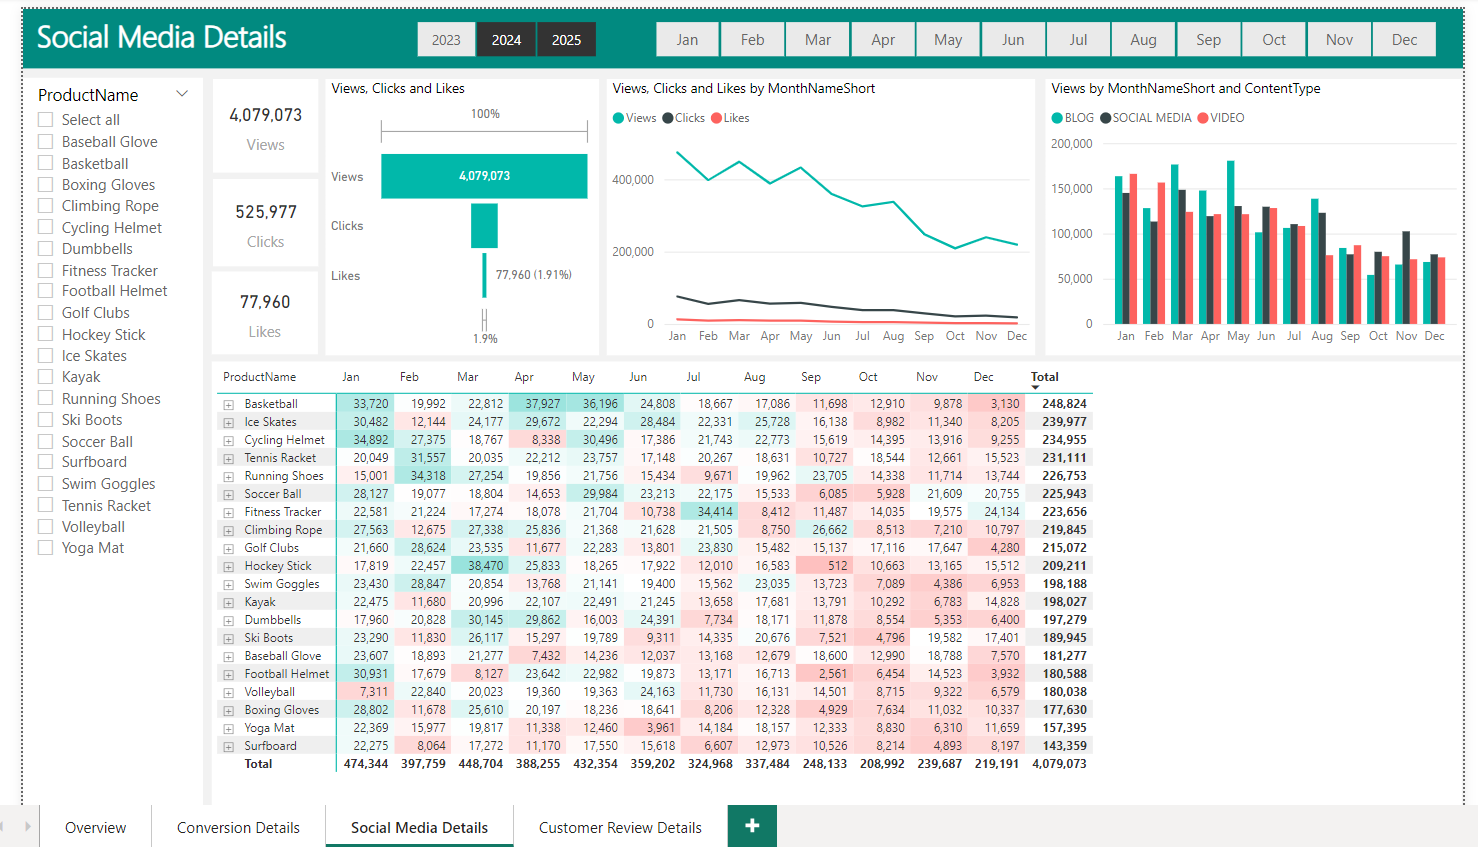

This screenshot's page, from the dashboard's own definition file:
{"tool":"powerbi","page":{"name":"Social Media Details","canvas":[1280,720],"ordinal":2},"visuals":[{"type":"textbox","box":[0,0,1280,52.6],"z":0},{"type":"slicer","fields":{"Values":["dim_products.ProductName"]},"box":[0,61.6,159.5,658.5],"z":1000},{"type":"lineChart","fields":{"Y":["_Calculations.Views","_Calculations.Clicks","_Calculations.Likes"],"Category":["Calendar.MonthNameShort"]},"box":[528.5,61.9,371.6,218.8],"z":2000},{"type":"funnel","fields":{"Y":["_Calculations.Views","_Calculations.Clicks","_Calculations.Likes"]},"box":[272.5,61.9,239.5,218.8],"z":3000},{"type":"card","fields":{"Values":["_Calculations.Views"]},"box":[168.3,61.9,93.9,65],"z":4000},{"type":"card","fields":{"Values":["_Calculations.Clicks"]},"box":[168.3,137.3,93.9,65],"z":5000},{"type":"card","fields":{"Values":["_Calculations.Likes"]},"box":[168.3,212.6,93.9,68.1],"z":6000},{"type":"slicer","fields":{"Values":["Calendar.MonthNameShort"]},"box":[536.8,4.1,743.2,44.4],"z":7000},{"type":"slicer","fields":{"Values":["Calendar.Year"]},"box":[324.1,4.1,208.5,44.4],"z":8000},{"type":"pivotTable","fields":{"Rows":["dim_products.ProductName","fact_engagement.ContentType"],"Values":["_Calculations.Views"],"Columns":["Calendar.MonthNameShort"]},"box":[168.3,292.1,1110.7,428.4],"z":9000},{"type":"clusteredColumnChart","fields":{"Category":["Calendar.MonthNameShort"],"Series":["fact_engagement.ContentType"],"Y":["_Calculations.Views"]},"box":[908.4,61.9,370.6,218.8],"z":10000}]}

Visuals, with their boxes on the page's 1280x720 design canvas (x1, y1, x2, y2). These are canvas units, not pixel positions in the 1478x847 screenshot, which may show the page scaled, cropped or inside an application window:
textbox: [0,0,1280,53]
slicer - dim_products.ProductName: [0,62,160,720]
lineChart - _Calculations.Views x _Calculations.Clicks: [528,62,900,281]
funnel - _Calculations.Views x _Calculations.Clicks: [272,62,512,281]
card - _Calculations.Views: [168,62,262,127]
card - _Calculations.Clicks: [168,137,262,202]
card - _Calculations.Likes: [168,213,262,281]
slicer - Calendar.MonthNameShort: [537,4,1280,48]
slicer - Calendar.Year: [324,4,533,48]
pivotTable - dim_products.ProductName x fact_engagement.ContentType: [168,292,1279,720]
clusteredColumnChart - Calendar.MonthNameShort x fact_engagement.ContentType: [908,62,1279,281]
